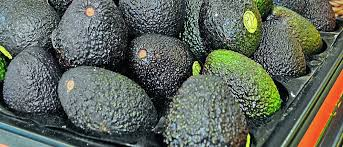aguacate: (157, 66, 251, 147)
